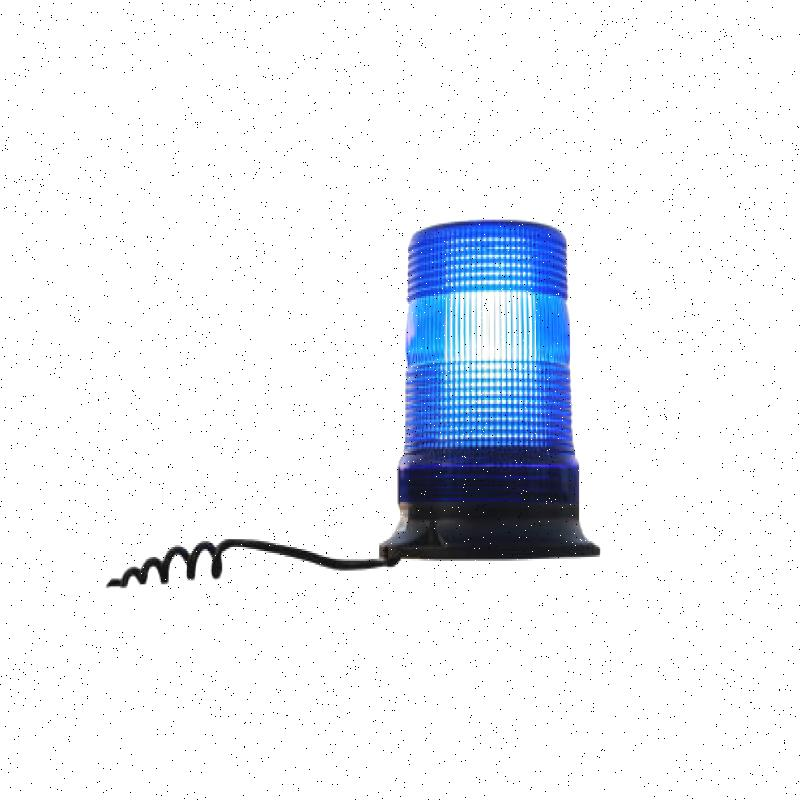AmbulanceSiren: (376, 196, 590, 688)
